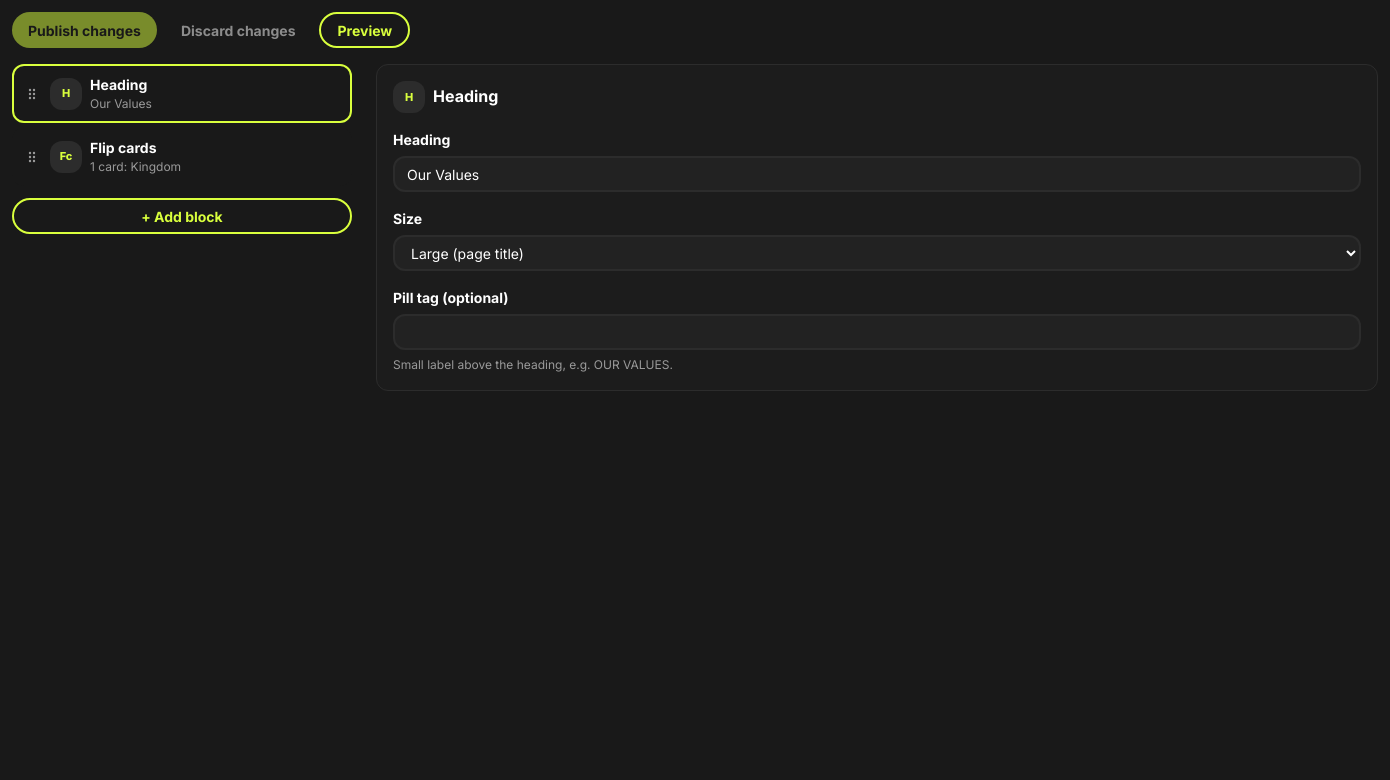
it: BlockEditor › saves straight away when switching to another block
Step 1. Replace the text in the field labelled "Heading" with "Values" → (877, 174), box left=393, top=156, right=1361, bottom=192
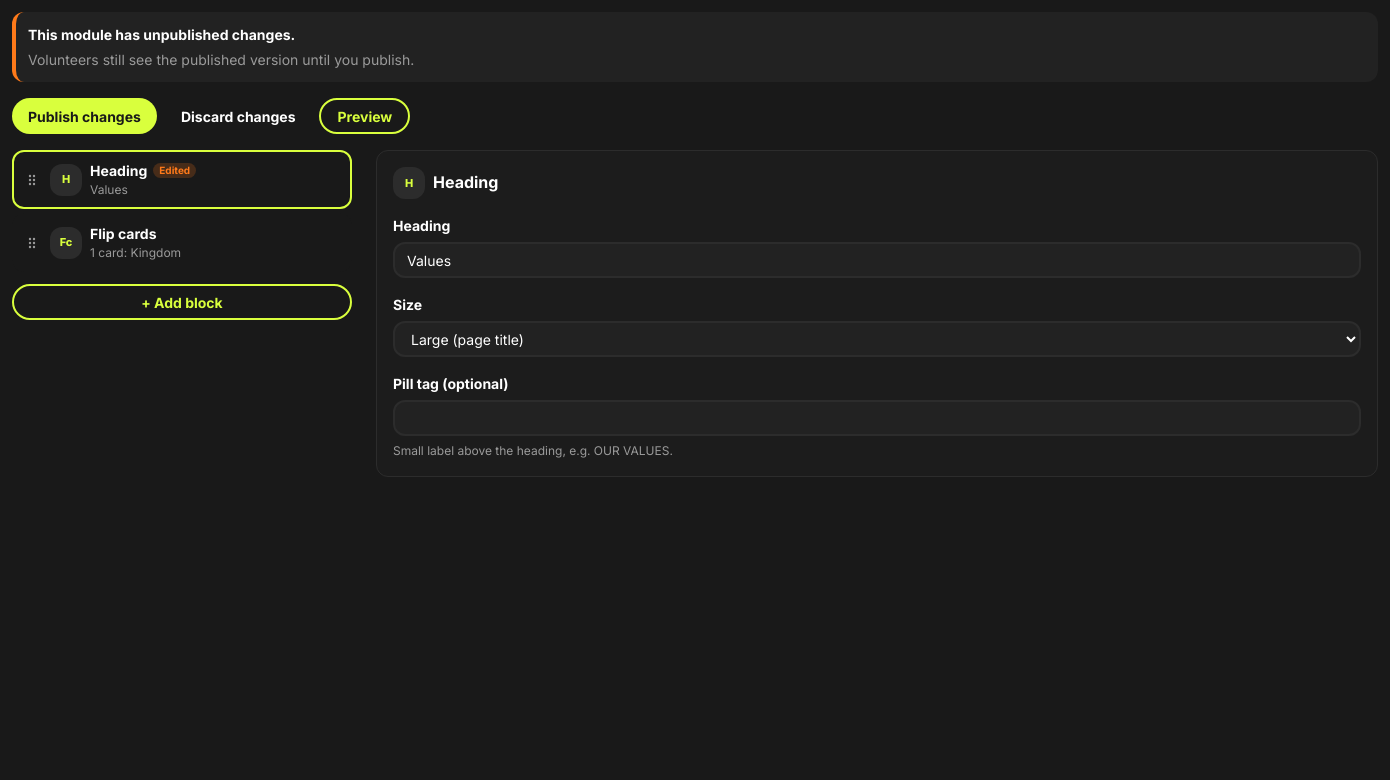
Step 2. Click the button "Fc Flip cards 1 card: Kingdom" → (146, 242), box left=50, top=223, right=242, bottom=262
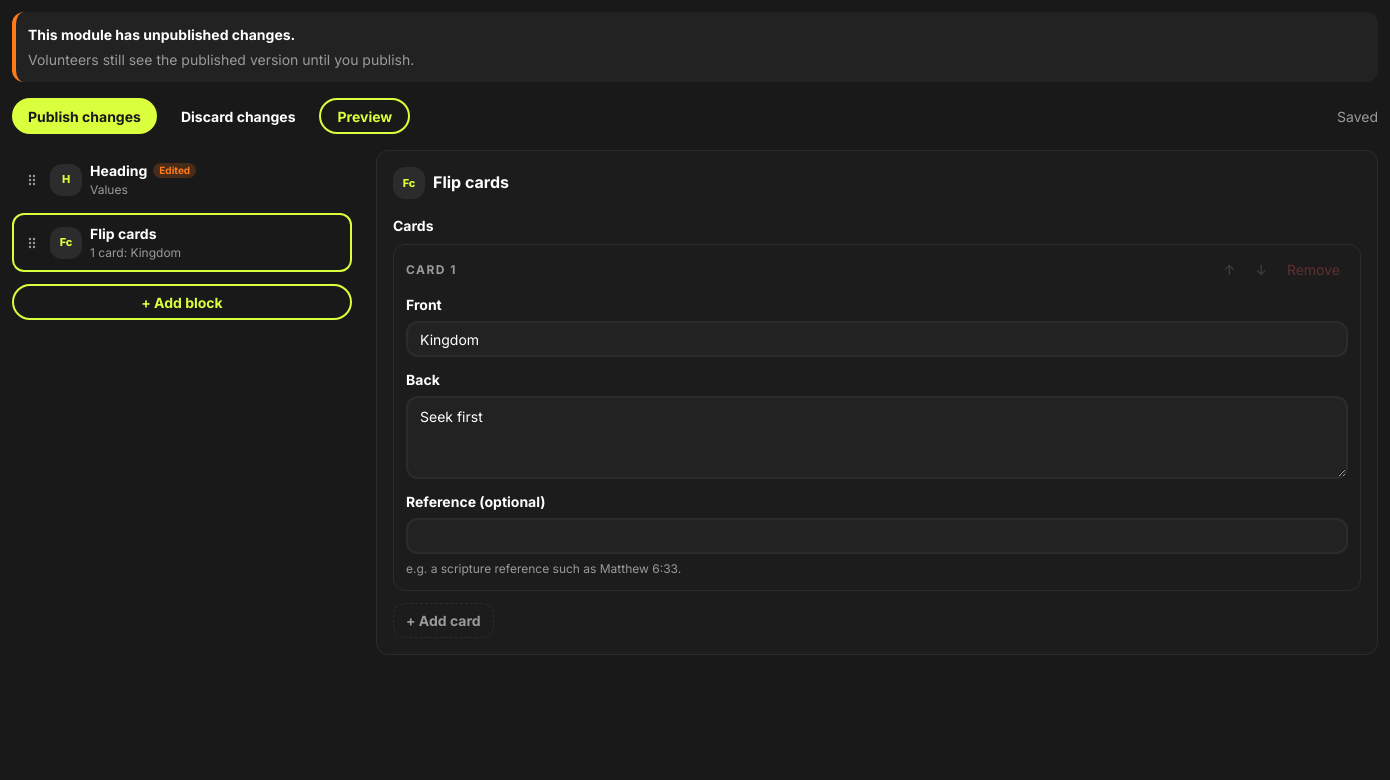
Expected: the field labelled "Front" holds "Kingdom", left=406, top=321, right=1348, bottom=357
